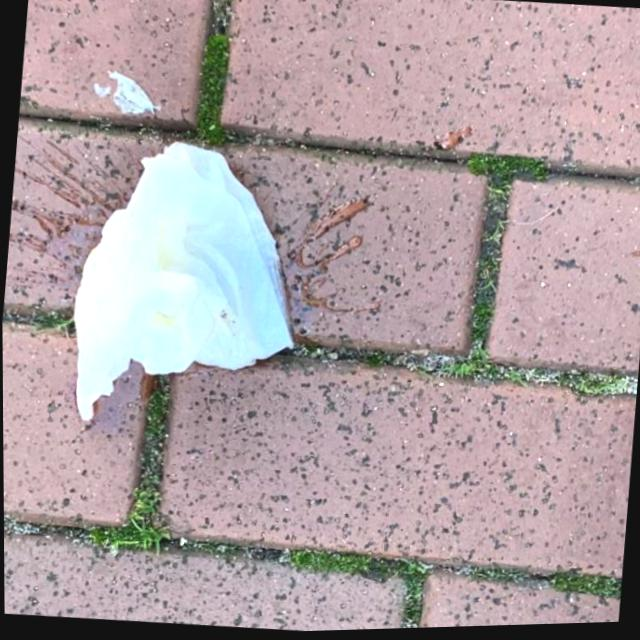Paper: (55, 129, 313, 442)
